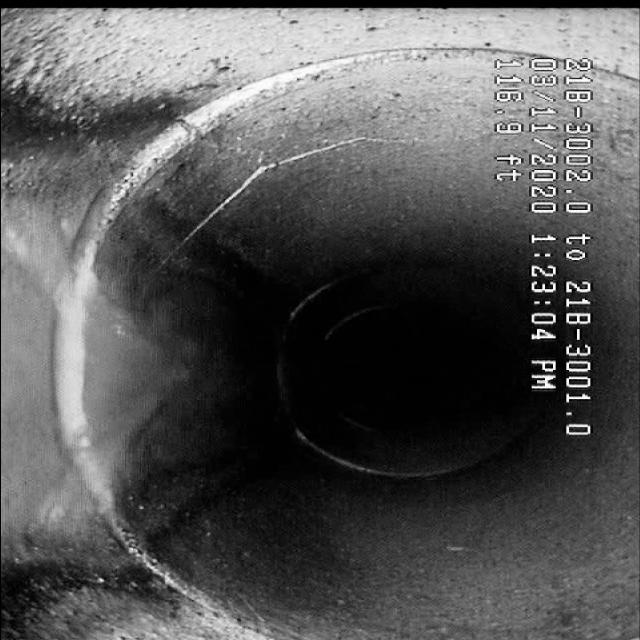Crack: (192, 116, 432, 227)
